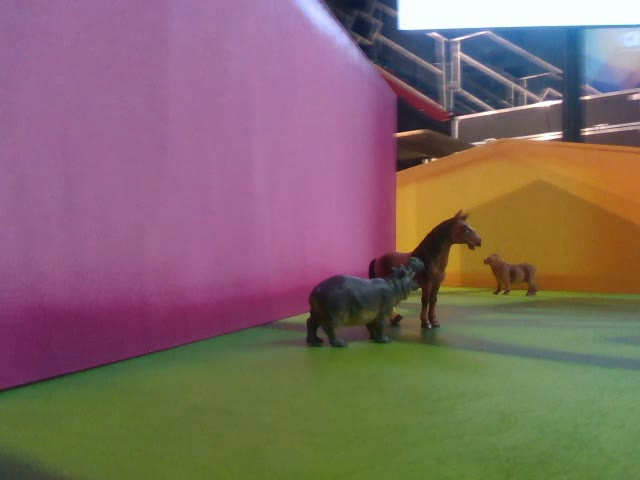toy: (305, 256, 424, 347), (482, 253, 538, 297)
